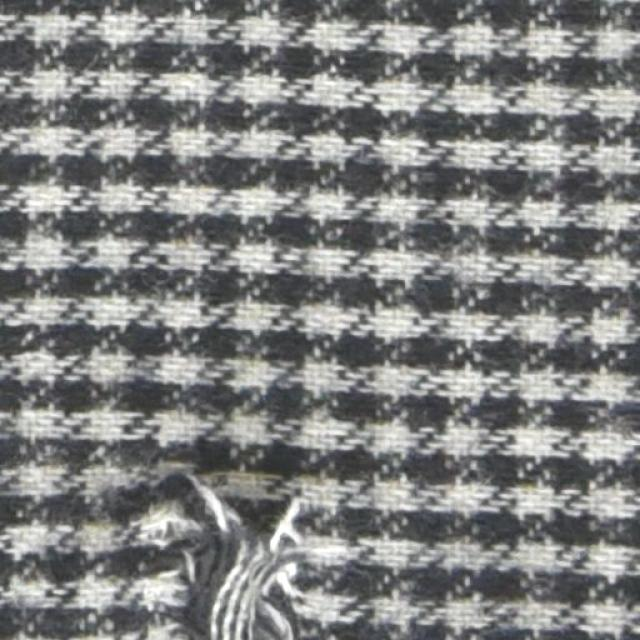Snag: (50, 453, 353, 636)
